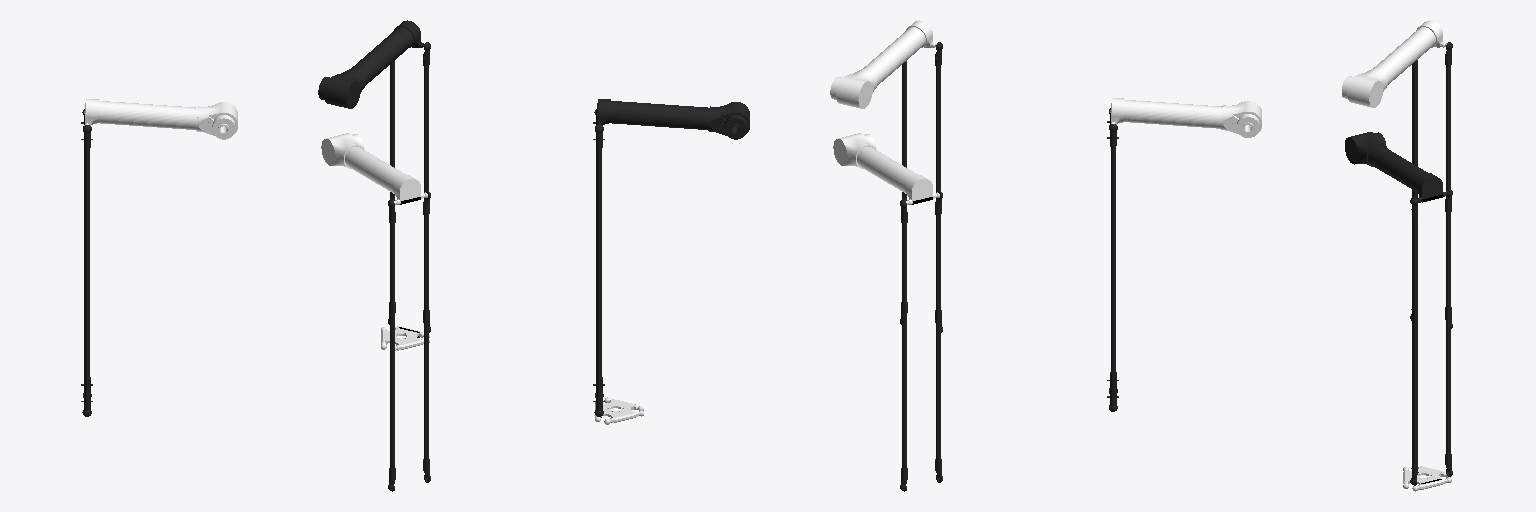
The robot description file, URDF, robot "ABB_IRB360":
<robot xmlns:xacro="http://www.ros.org/wiki/xacro" name="ABB_IRB360">

    <link name="base">
        <visual>
            <geometry>
                <mesh filename="package://delta_robot/meshes/BASE.stl"/>
            </geometry>
            <origin rpy="1.5708 0 -1.5708" xyz="0 0 0"/>
            <material name="light_grey">
                <color rgba="0.95 0.95 0.95 1"/>
            </material>
        </visual>
    </link>

    <!-- ARM 1, includes dummy for IK solving and end effector -->

    <link name="upper_arm_1">
        <visual>
            <geometry>
                <mesh filename="package://delta_robot/meshes/UPPER_ARM.stl"/>
            </geometry>
            <origin rpy="1.5708 0 0" xyz="0 0 0"/>
            <material name="grey">
                <color rgba="0.200 0.20 0.200 1"/>
            </material>
        </visual>
        <!--
        <collision>
            <geometry>
                <cylinder radius="0.12" length="0.35"/>
            </geometry>
        </collision>-->
    </link>

    <joint name="base_to_upper_arm_1" type="revolute">
        <axis xyz="0 1 0"/>
        <origin rpy="0 0 0.5236" xyz="0.1732 0.1 0"/>
        <limit effort="1000.0" lower="-6.28" upper="6.28" velocity="0.5"/>
        <parent link="base"/>
        <child link="upper_arm_1"/>
    </joint>

  
    <!--
    <link name="c_upper_arm_1">
        <visual>
            <geometry>
                <cylinder radius="0.06" length="0.35"/>
            </geometry>
            <origin rpy="0 0 0" xyz="0.2 0 -0.5"/>
            <material name="blue">
                <color rgba="0 0 0.8 1"/>
            </material>
        </visual>
    </link>

    <joint name="c_base_to_upper_arm_1" type="planar">
        <parent link="base"/>
        <child link="c_upper_arm_1"/>
        <origin xyz="0 0 0" rpy="0 0 0"/>
        <axis xyz="0 0 0"/>
    </joint>
    -->

        
    <link name="elbow_1">
        <visual>
            <geometry>
                <cylinder radius="0.008" length="0.06"/> 
            </geometry>
            <origin rpy="0 -1.5708 1.5708" xyz="0 0 0"/>
            <material name="invisible">
                <color rgba="0 0 0 0.1"/>
            </material>
        </visual>
    </link>

    <joint name="upper_to_elbow_1" type="revolute">
        <axis xyz="0 1 0"/>
        <origin rpy="0 0 0" xyz="0.35 0 0"/>
        <limit effort="1000.0" lower="-6.28" upper="6.28" velocity="0.5"/>
        <parent link="upper_arm_1"/>
        <child link="elbow_1"/>
    </joint>

        
    <link name="lower_arm_1_A">
        <visual>
            <geometry>
                <mesh filename="package://delta_robot/meshes/LOWER_ARM.stl"/>
            </geometry>
            <origin rpy="1.5708 0 3.1416" xyz="0 0 0"/>
            <material name="grey">
                <color rgba="0.200 0.20 0.200 1"/>
            </material> 
        </visual>
    </link>

    <joint name="elbow_to_lower_1_A" type="revolute">
        <axis xyz="1 0 0"/>
        <origin rpy="0 0 0" xyz="0 0.05 0"/>
        <limit effort="1000.0" lower="-6.28" upper="6.28" velocity="0.5"/>
        <parent link="elbow_1"/>
        <child link="lower_arm_1_A"/>
    </joint>

    <link name="lower_arm_1_B">
        <visual>
            <geometry>
                <mesh filename="package://delta_robot/meshes/LOWER_ARM.stl"/>
            </geometry>
            <origin rpy="1.5708 0 0" xyz="0 0 0"/>
            <material name="grey">
                <color rgba="0.200 0.20 0.200 1"/>
            </material>  
        </visual>
    </link>

    <joint name="elbow_to_lower_1_B" type="revolute">
        <axis xyz="1 0 0"/>
        <origin rpy="0 0 0" xyz="0 -0.05 0"/>
        <limit effort="1000.0" lower="-6.28" upper="6.28" velocity="0.5"/>
        <parent link="elbow_1"/>
        <child link="lower_arm_1_B"/>
    </joint>


    <link name="lower_elbow">
        <visual>
            <geometry>
                <cylinder radius="0.008" length="0.06"/> 
            </geometry>
            <origin rpy="0 1.5708 1.5708" xyz="0 0 0"/>
            <material name="invisible"/>
          
        </visual>
    </link>
    
    
    <joint name="lower_arm_1_A_to_lower_elbow" type="revolute">
        <axis xyz="-1 0 0"/>
        <origin rpy="0 0 0" xyz="0 -0.05 -0.82"/>
        <limit effort="1000.0" lower="-6.28" upper="6.28" velocity="0.5"/>
        <parent link="lower_arm_1_A"/>
        <child link="lower_elbow"/>
    </joint>
    
    
    <link name="end_effector">
        <visual>
            <geometry>
                <mesh filename="package://delta_robot/meshes/END_EFFECTOR.stl"/>
            </geometry>       
            <origin rpy="1.5708 0 0" xyz="0 0 0"/>
            <material name="light_grey">
                <color rgba="0.95 0.95 0.95 1"/>
            </material>
        </visual>
    </link>
    
    <joint name="end_effector_joint" type="revolute">
        <axis xyz="0 1 0"/>
        <origin rpy="0 0 0" xyz="-0.04 0 0"/>
        <limit effort="1000.0" lower="-6.28" upper="6.28" velocity="0.5"/>
        <parent link="lower_elbow"/>
        <child link="end_effector"/>
    </joint>
    
       
    
<!-- ARM 2 -->

    <link name="upper_arm_2">
        <visual>
            <geometry>
                <mesh filename="package://delta_robot/meshes/UPPER_ARM.stl"/>
            </geometry>
            <origin rpy="1.5708 0 0" xyz="0 0 0"/>
            <material name="grey">
                <color rgba="200 20 200 1"/>
            </material>
        </visual>
    </link>

    <joint name="base_to_upper_arm_2" type="revolute">
        <axis xyz="0 1 0"/>
        <origin rpy="0 0 -1.5708" xyz="0 -0.2 0"/>
        <limit effort="1000.0" lower="-1.57" upper="1.57" velocity="0.5"/>
        <parent link="base"/>
        <child link="upper_arm_2"/>
    </joint>
     

    <link name="elbow_2">
        <visual>
            <geometry>
                <cylinder radius="0.008" length="0.06"/> 
            </geometry>
            <origin rpy="0 1.5708 1.5708" xyz="0 0 0"/>
            <material name="invisible">
                <color rgba="0 0 0 0.1"/>
            </material>
        </visual>
    </link>

    <joint name="upper_to_elbow_2" type="revolute">
        <axis xyz="0 1 0"/>
        <origin rpy="0 0 0" xyz="0.35 0 0"/>
        <limit effort="1000.0" lower="0" upper="3" velocity="0.5"/>
        <parent link="upper_arm_2"/>
        <child link="elbow_2"/>
    </joint>
    
    <link name="lower_arm_2_A">
        <visual>
            <geometry>
                <mesh filename="package://delta_robot/meshes/LOWER_ARM.stl"/>
            </geometry>
            <origin rpy="1.5708 0 3.1416" xyz="0 0 0"/>
            <material name="grey">
                <color rgba="0.200 0.20 0.200 1"/>
            </material>   
        </visual>
    </link>

    <joint name="elbow_to_lower_2_A" type="revolute">
        <axis xyz="1 0 0"/>
        <origin rpy="0 0 0" xyz="0 0.05 0"/>
        <limit effort="1000.0" lower="-6.28" upper="6.28" velocity="0.5"/>
        <parent link="elbow_2"/>
        <child link="lower_arm_2_A"/>
    </joint>

    <link name="lower_arm_2_B">
        <visual>
            <geometry>
                <mesh filename="package://delta_robot/meshes/LOWER_ARM.stl"/>
            </geometry>
            <origin rpy="1.5708 0 0" xyz="0 0 0"/>
            <material name="grey">
                <color rgba="0.200 0.20 0.200 1"/>
            </material>   
        </visual>
    </link>

    <joint name="elbow_to_lower_2_B" type="revolute">
        <axis xyz="1 0 0"/>
        <origin rpy="0 0 0" xyz="0 -0.05 0"/>
        <limit effort="1000.0" lower="-3.14" upper="3.14" velocity="0.5"/>
        <parent link="elbow_2"/>
        <child link="lower_arm_2_B"/>
    </joint>
    
    
<!-- ARM 3 -->

    <link name="upper_arm_3">
        <visual>
            <geometry>
                <mesh filename="package://delta_robot/meshes/UPPER_ARM.stl"/>
            </geometry>
            <origin rpy="1.5708 0 0" xyz="0 0 0"/>
            <material name="grey">
                <color rgba="200 20 200 1"/>
            </material>
        </visual>
    </link>

    <joint name="base_to_upper_arm_3" type="revolute">
        <axis xyz="0 1 0"/>
        <origin rpy="0 0 2.6180" xyz="-0.1732 0.1 0"/>
        <limit effort="1000.0" lower="-1.57" upper="1.57" velocity="0.5"/>
        <parent link="base"/>
        <child link="upper_arm_3"/>
    </joint>

    <link name="elbow_3">
        <visual>
            <geometry>
                <cylinder radius="0.008" length="0.06"/> 
            </geometry>
            <origin rpy="0 1.5708 1.5708" xyz="0 0 0"/>
            <material name="invisible">
                <color rgba="0 0 0 0.1"/>
            </material>
        </visual>
    </link>

    <joint name="upper_to_elbow_3" type="revolute">
        <axis xyz="0 1 0"/>
        <origin rpy="0 0 0" xyz="0.35 0 0"/>
        <limit effort="1000.0" lower="0" upper="3" velocity="0.5"/>
        <parent link="upper_arm_3"/>
        <child link="elbow_3"/>
    </joint>
    
    <link name="lower_arm_3_A">
        <visual>
            <geometry>
                <mesh filename="package://delta_robot/meshes/LOWER_ARM.stl"/>
            </geometry>
            <origin rpy="1.5708 0 3.1416" xyz="0 0 0"/>
            <material name="grey">
                <color rgba="0.200 0.20 0.200 1"/>
            </material>   
        </visual>
    </link>

    <joint name="elbow_to_lower_3_A" type="revolute">
        <axis xyz="1 0 0"/>
        <origin rpy="0 0 0" xyz="0 0.05 0"/>
        <limit effort="1000.0" lower="-6.28" upper="6.28" velocity="0.5"/>
        <parent link="elbow_3"/>
        <child link="lower_arm_3_A"/>
    </joint>

    <link name="lower_arm_3_B">
        <visual>
            <geometry>
                <mesh filename="package://delta_robot/meshes/LOWER_ARM.stl"/>
            </geometry>
            <origin rpy="1.5708 0 0" xyz="0 0 0"/>
            <material name="grey">
                <color rgba="0.200 0.20 0.200 1"/>
            </material>   
        </visual>
    </link>

    <joint name="elbow_to_lower_3_B" type="revolute">
        <axis xyz="1 0 0"/>
        <origin rpy="0 0 0" xyz="0 -0.05 0"/>
        <limit effort="1000.0" lower="-3.14" upper="3.14" velocity="0.5"/>
        <parent link="elbow_3"/>
        <child link="lower_arm_3_B"/>
    </joint>

    
 
</robot>

--- Render facts (derived) ---
3 views of the same robot in one strip: view 1: azimuth 30°, elevation 25°; view 2: azimuth 150°, elevation 25°; view 3: azimuth 270°, elevation 25° (orthographic).
Model ABB_IRB360 with 15 links and 14 joints (14 revolute), rooted at base, posed every joint at zero.
Visible links, largest first — view 1: upper_arm_3, upper_arm_1, upper_arm_2, lower_arm_3_A, lower_arm_2_B, lower_arm_2_A, lower_arm_1_B, end_effector, lower_arm_1_A; view 2: upper_arm_1, upper_arm_2, upper_arm_3, lower_arm_1_A, lower_arm_3_B, lower_arm_3_A, lower_arm_2_B, end_effector, lower_arm_2_A; view 3: upper_arm_2, upper_arm_3, upper_arm_1, lower_arm_1_B, lower_arm_2_A, lower_arm_1_A, lower_arm_3_B, end_effector, lower_arm_3_A.
Link boxes in pixels (x1=…): upper_arm_3: x1=84, y1=99, x2=237, y2=139; upper_arm_1: x1=318, y1=20, x2=424, y2=108; upper_arm_2: x1=321, y1=133, x2=427, y2=204; lower_arm_3_A: x1=81, y1=125, x2=92, y2=416; lower_arm_2_B: x1=388, y1=199, x2=395, y2=491; lower_arm_2_A: x1=423, y1=191, x2=430, y2=482; lower_arm_1_B: x1=423, y1=42, x2=430, y2=332; end_effector: x1=381, y1=326, x2=429, y2=350; lower_arm_1_A: x1=388, y1=61, x2=395, y2=324; upper_arm_1: x1=596, y1=99, x2=749, y2=139; upper_arm_2: x1=830, y1=20, x2=936, y2=108; upper_arm_3: x1=833, y1=133, x2=939, y2=204; lower_arm_1_A: x1=593, y1=125, x2=604, y2=416; lower_arm_3_B: x1=900, y1=199, x2=907, y2=491; lower_arm_3_A: x1=935, y1=191, x2=942, y2=482; lower_arm_2_B: x1=935, y1=42, x2=942, y2=332; end_effector: x1=595, y1=397, x2=643, y2=424; lower_arm_2_A: x1=900, y1=61, x2=907, y2=324; upper_arm_2: x1=1110, y1=98, x2=1261, y2=137; upper_arm_3: x1=1342, y1=20, x2=1446, y2=107; upper_arm_1: x1=1345, y1=132, x2=1449, y2=202; lower_arm_1_B: x1=1410, y1=197, x2=1418, y2=485; lower_arm_2_A: x1=1107, y1=124, x2=1118, y2=411; lower_arm_1_A: x1=1445, y1=189, x2=1452, y2=476; lower_arm_3_B: x1=1445, y1=42, x2=1452, y2=328; end_effector: x1=1403, y1=466, x2=1451, y2=491; lower_arm_3_A: x1=1410, y1=60, x2=1417, y2=320.
Bounding box of the posed robot: 1.03 × 0.8963 × 0.8874 m (x, y, z).
Meshes: 4 distinct files referenced, 10 mesh visuals loaded (3 binary STL); not drawn: 1 (reference not matched to a file when rendering).